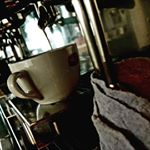cups: (5, 41, 82, 107)
